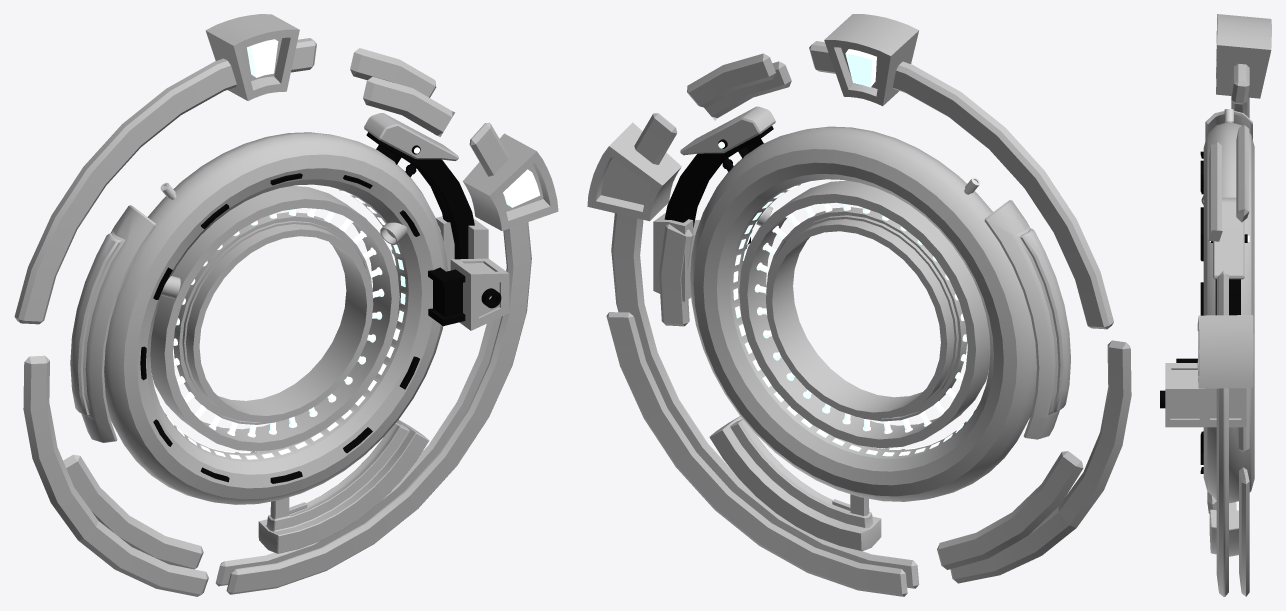
Rendered from Sci fi portal new.fbx.
3 renders of one model, left to right at view 1: azimuth 30°, elevation 25°; view 2: azimuth 150°, elevation 25°; view 3: azimuth 270°, elevation 25°, orthographic. The views are drawn at different scales.
Parts seen in each view (by area): view 1: Main ring, Metal ring, Outside ring, Relic, Outside ring.002, Floaty bit, Floaty bit 2, Outside ring.001, Outside ring.003, Arm supp, Black supp, Inner metal (+7 smaller); view 2: Main ring, Outside ring, Metal ring, Relic, Floaty bit, Floaty bit 2, Outside ring.002, Outside ring.003, Outside ring.001, Inner metal, Black supp, White wing (+4 smaller); view 3: Relic, Main ring, Outside ring, Arm supp, Outside ring.001, White wing, Floaty bit 2, Black accent, Floaty bit, Black supp.
Boxes of the visible parts, left/top/right/bottom form: Main ring: left=104, top=132, right=447, bottom=504; Metal ring: left=150, top=186, right=399, bottom=451; Outside ring: left=14, top=38, right=531, bottom=594; Relic: left=205, top=14, right=558, bottom=230; Outside ring.002: left=23, top=355, right=208, bottom=596; Floaty bit: left=70, top=205, right=155, bottom=442; Floaty bit 2: left=258, top=420, right=429, bottom=553; Outside ring.001: left=350, top=48, right=452, bottom=135; Outside ring.003: left=63, top=454, right=203, bottom=569; Arm supp: left=436, top=216, right=509, bottom=330; Black supp: left=366, top=132, right=474, bottom=259; Inner metal: left=165, top=186, right=408, bottom=462; Main ring: left=690, top=126, right=1036, bottom=501; Outside ring: left=606, top=41, right=1113, bottom=596; Metal ring: left=739, top=180, right=990, bottom=448; Relic: left=587, top=14, right=918, bottom=221; Floaty bit: left=984, top=200, right=1070, bottom=439; Floaty bit 2: left=709, top=416, right=881, bottom=551; Outside ring.002: left=950, top=340, right=1131, bottom=583; Outside ring.003: left=937, top=451, right=1083, bottom=569; Outside ring.001: left=687, top=53, right=791, bottom=117; Inner metal: left=730, top=181, right=975, bottom=458; Black supp: left=664, top=126, right=773, bottom=227; White wing: left=680, top=106, right=775, bottom=155; Relic: left=1197, top=14, right=1271, bottom=388; Main ring: left=1203, top=122, right=1254, bottom=502; Outside ring: left=1208, top=63, right=1249, bottom=596; Arm supp: left=1165, top=363, right=1246, bottom=427; Outside ring.001: left=1209, top=124, right=1249, bottom=237; White wing: left=1213, top=197, right=1244, bottom=279; Floaty bit 2: left=1209, top=502, right=1238, bottom=556; Black accent: left=1200, top=151, right=1203, bottom=473; Floaty bit: left=1205, top=111, right=1252, bottom=140; Black supp: left=1215, top=279, right=1240, bottom=315.
Bounding box in the file's own units: 367 × 374 × 70.24.
